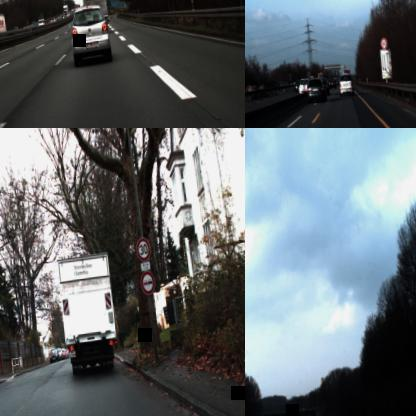no overtaking (trucks): (140, 270, 156, 296)
speed limit 30: (135, 236, 152, 262)
speed limit 80: (380, 37, 388, 50)
